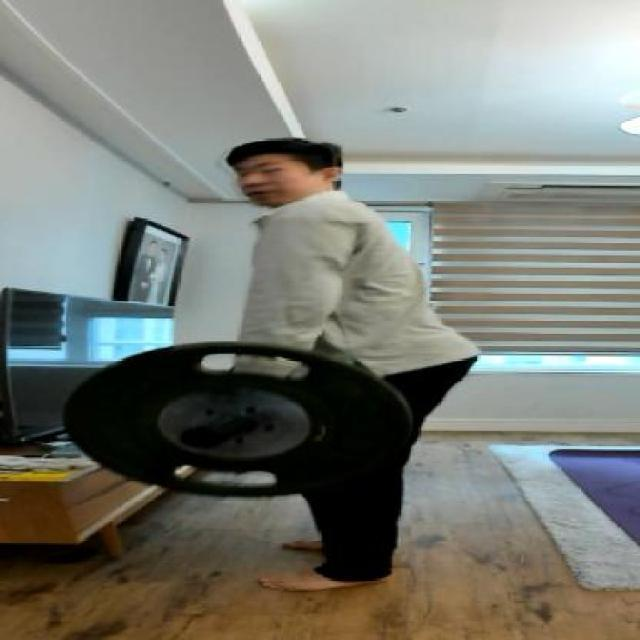barbell: (40, 336, 437, 513)
